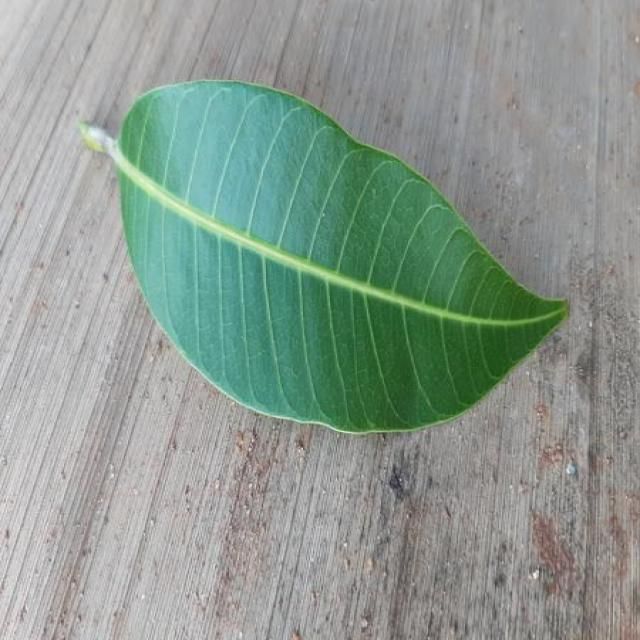mango: (78, 80, 567, 433)
